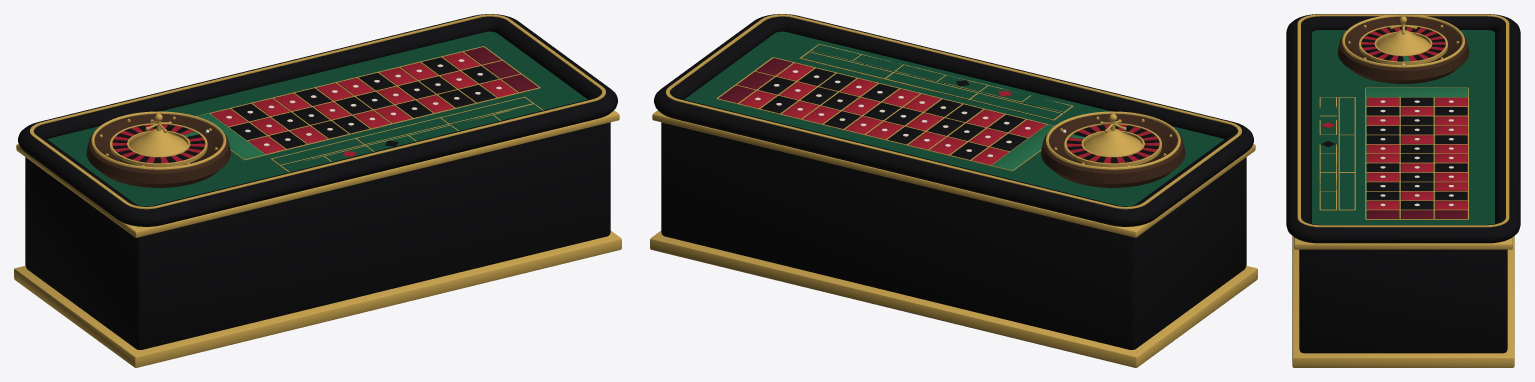
The model's file is roulette_table.glb.
The picture shows the model from 3 angles, left to right: view 1: azimuth 30°, elevation 25°; view 2: azimuth 150°, elevation 25°; view 3: azimuth 270°, elevation 25°; orthographic projection. The views are drawn at different scales.
Parts seen in each view (by area): view 1: roulette_table, wheel_rotor; view 2: roulette_table, wheel_rotor; view 3: roulette_table, wheel_rotor.
Part boxes in pixels (box(x1,y1,x2,y2)): roulette_table: box(14, 14, 621, 367); wheel_rotor: box(110, 113, 207, 167); roulette_table: box(650, 14, 1257, 367); wheel_rotor: box(1064, 113, 1161, 167); roulette_table: box(1286, 14, 1520, 367); wheel_rotor: box(1359, 16, 1447, 64).
Size of the model in its own units: 3.07 by 1.12 by 1.37.
